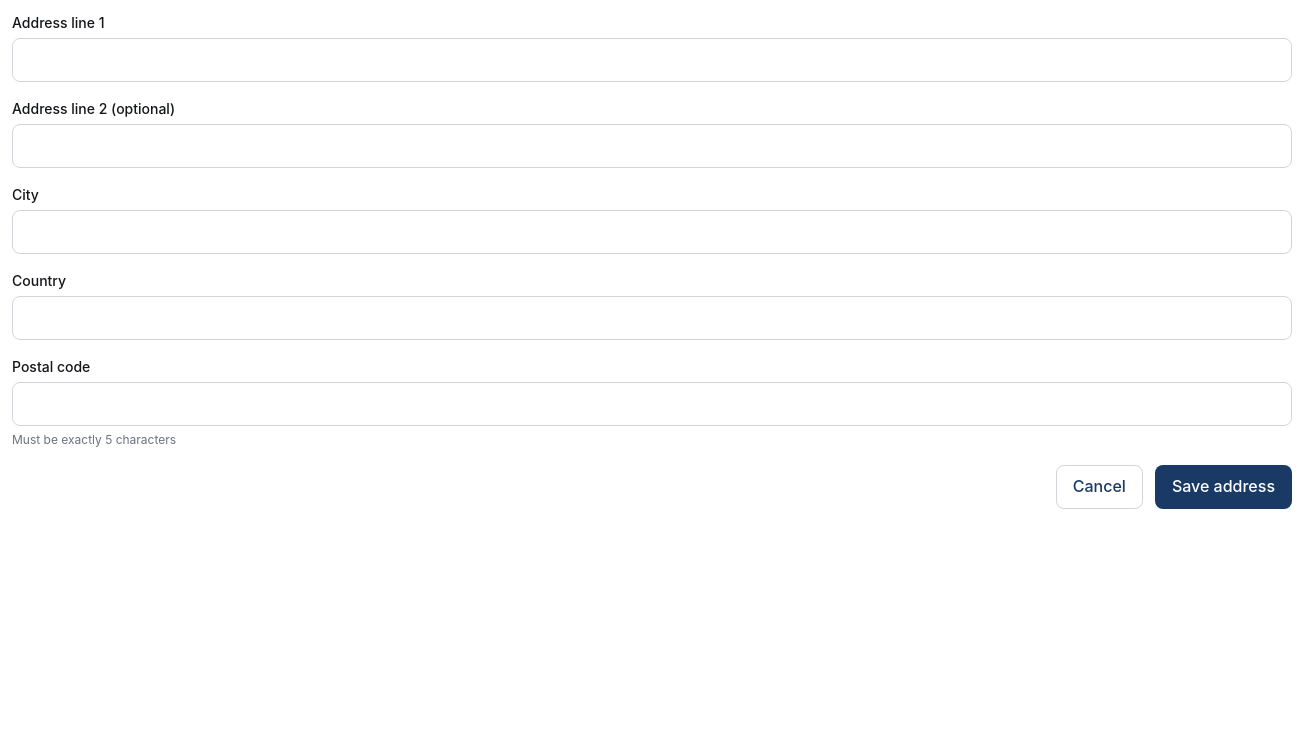
Test: AddressForm › shows a general error banner when addAddress fails
The image size is (1304, 732).
Type "1 Main St" into the field labelled "Address line 1". click: x=652, y=60
box: [12,38,1292,82]
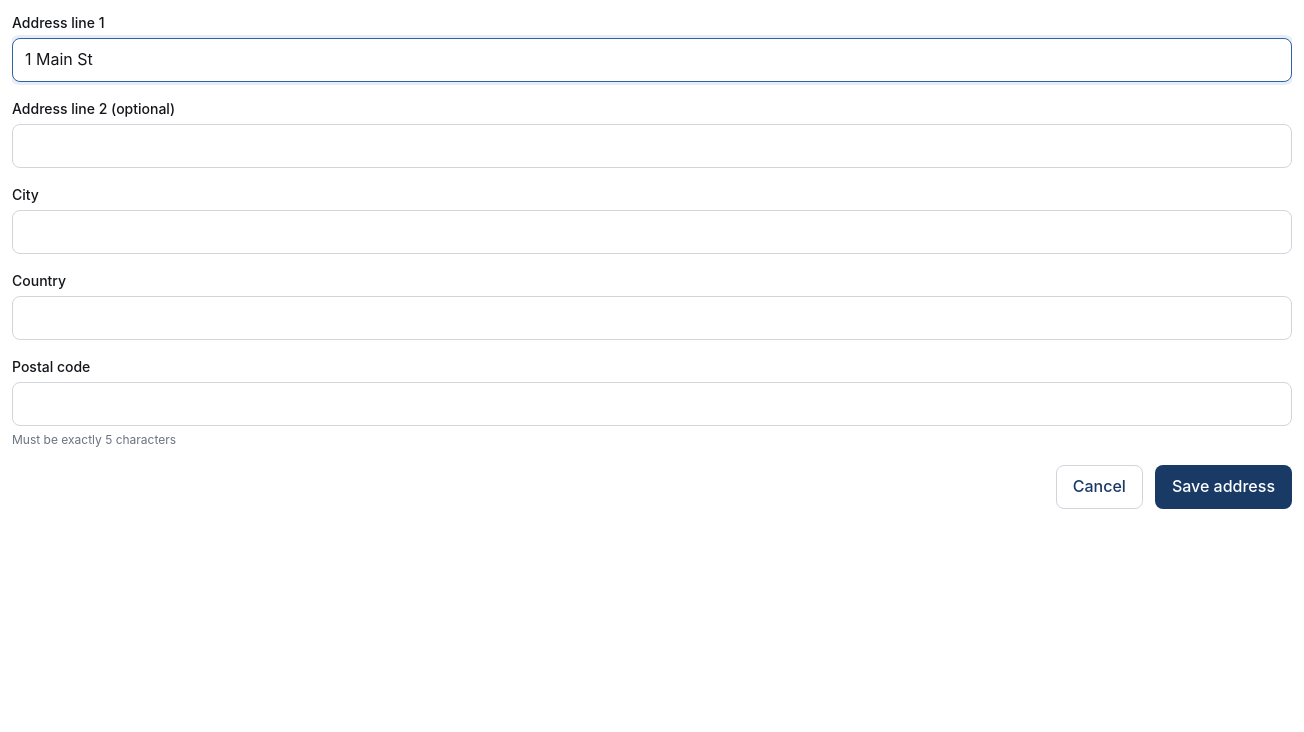
Type "Rabat" into the field labelled "City". click: x=652, y=232
box: [12,210,1292,254]
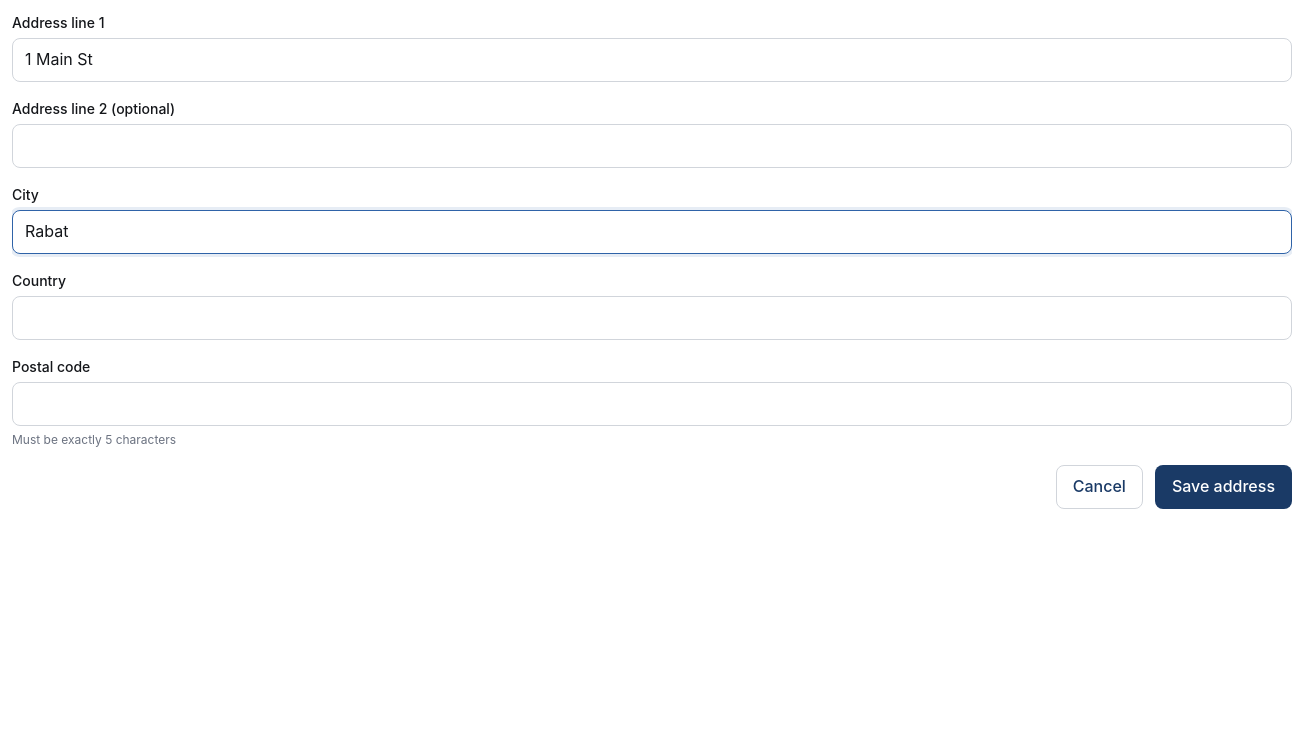
Type "MA" into the field labelled "Country". click: x=652, y=318
box: [12,296,1292,340]
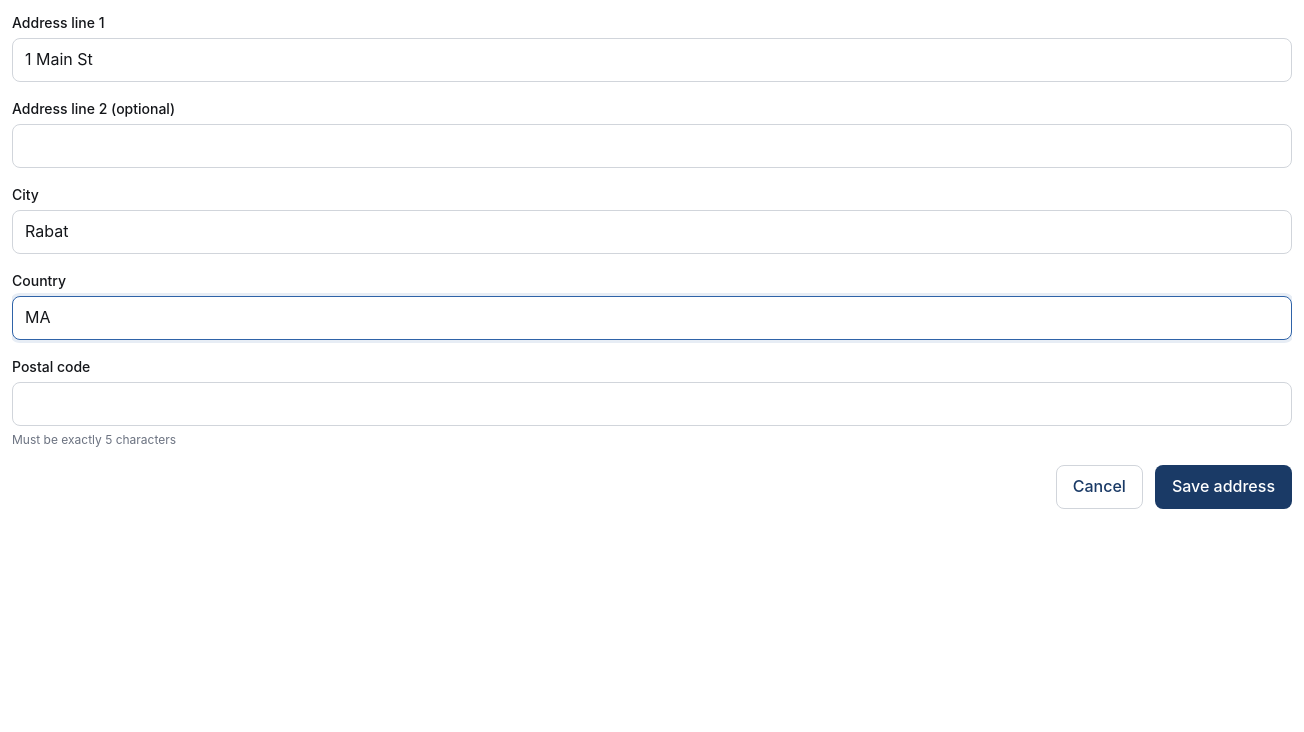
Type "10000" into the field labelled "Postal code". click: x=652, y=404
box: [12,382,1292,426]
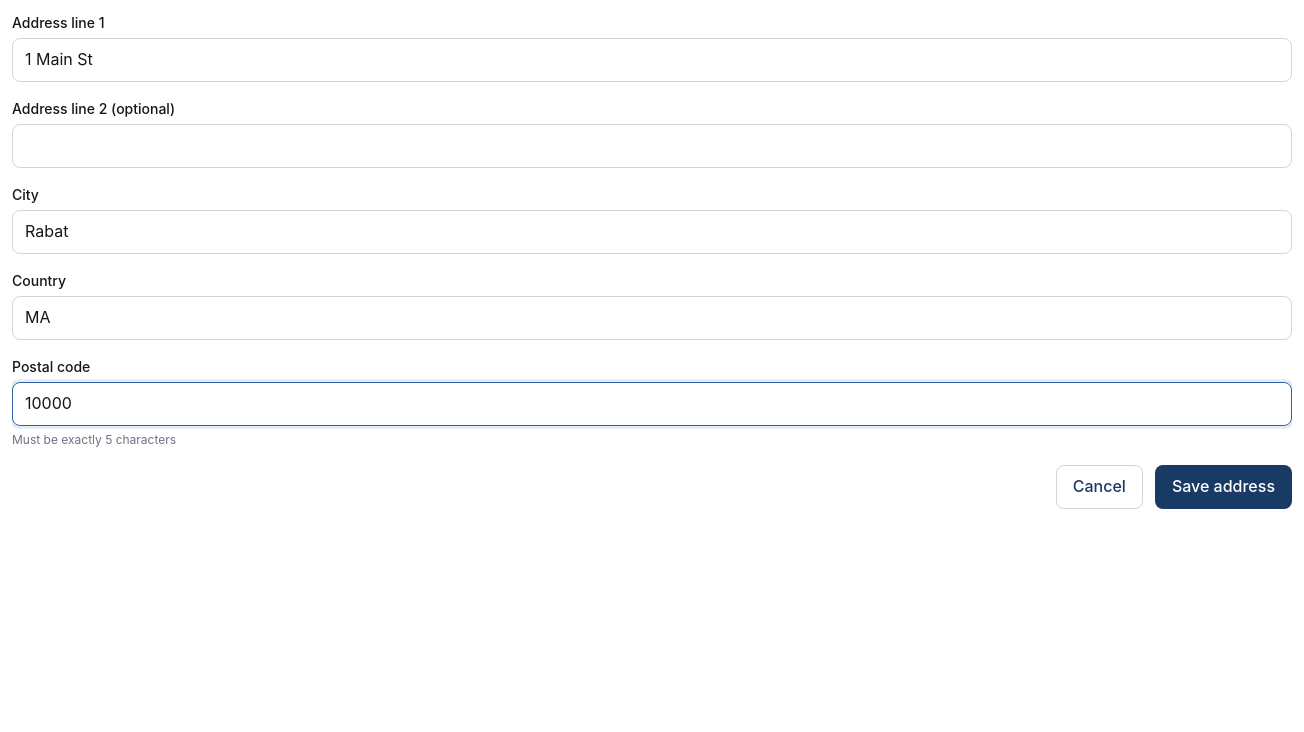
Click the button "Save address". click: x=1223, y=487
box: [1155,465,1292,509]
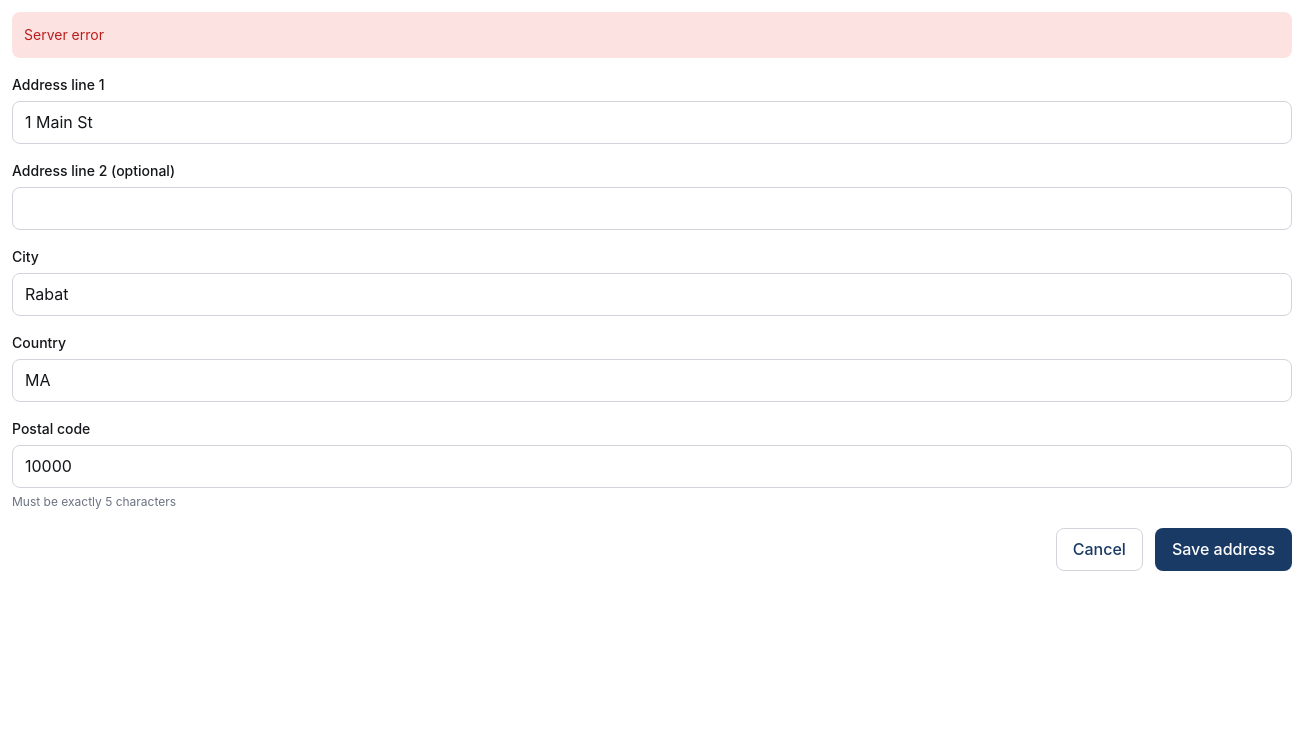
Expected: the message reads "Server error", [24,26,104,43]
